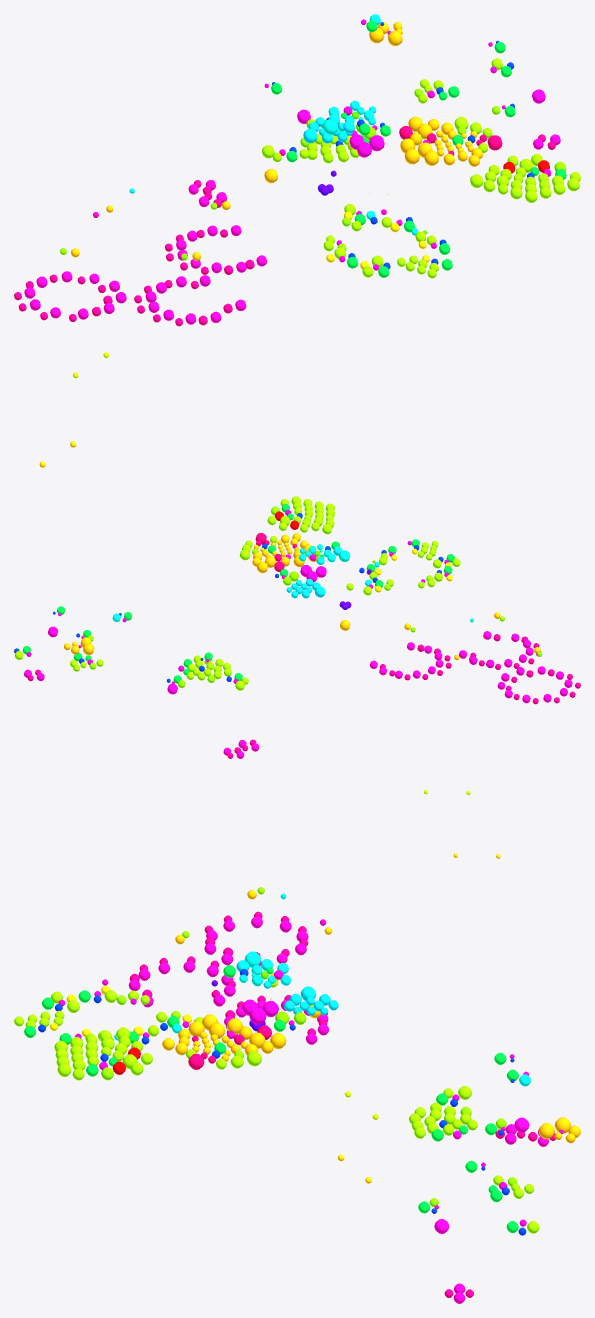
The model's file is task-ab28625ef-layout.gltf.
The picture shows the model from 3 angles, top to bottom: view 1: azimuth 30°, elevation 25°; view 2: azimuth 150°, elevation 25°; view 3: azimuth 270°, elevation 25°; orthographic projection. The views are drawn at different scales.
Visible parts, largest first — view 1: normal_c_files, normal_vcxproj_files, normal_icc_files, normal_in_files, normal_filters_files, normal_no_ext_files, normal_pdf_files, normal_m4_files, normal_h_files, normal_build_files; view 2: normal_c_files, normal_vcxproj_files, normal_icc_files, normal_in_files, normal_filters_files, normal_no_ext_files, normal_h_files, normal_m4_files, normal_pdf_files; view 3: normal_c_files, normal_icc_files, normal_vcxproj_files, normal_in_files, normal_filters_files, normal_m4_files, normal_no_ext_files, normal_h_files, normal_pdf_files, normal_am_files, normal_build_files, normal_ps_files.
Part boxes in pixels (x1,y1,x2,y2): normal_c_files: (262,58,580,278); normal_vcxproj_files: (24,134,560,324); normal_icc_files: (264,22,482,183); normal_in_files: (271,20,566,277); normal_filters_files: (14,134,555,326); normal_no_ext_files: (323,14,418,235); normal_pdf_files: (297,89,545,157); normal_m4_files: (303,117,354,143); normal_h_files: (60,88,566,260); normal_build_files: (264,19,551,270); normal_c_files: (15,496,460,690); normal_vcxproj_files: (24,631,572,758); normal_icc_files: (64,533,350,655); normal_in_files: (22,504,454,683); normal_filters_files: (27,634,580,758); normal_no_ext_files: (112,544,379,621); normal_h_files: (88,506,542,687); normal_m4_files: (286,546,342,598); normal_pdf_files: (48,565,326,694); normal_c_files: (14,979,539,1233); normal_icc_files: (162,1004,580,1143); normal_vcxproj_files: (128,916,548,1303); normal_in_files: (24,965,518,1233); normal_filters_files: (129,911,555,1297); normal_m4_files: (236,960,338,1015); normal_no_ext_files: (114,951,530,1086); normal_h_files: (101,887,517,1207); normal_pdf_files: (242,999,529,1233); normal_am_files: (38,969,526,1235); normal_build_files: (58,970,563,1226); normal_ps_files: (188,1025,271,1069).
Size of the model in its own units: 179 by 85.72 by 131.
